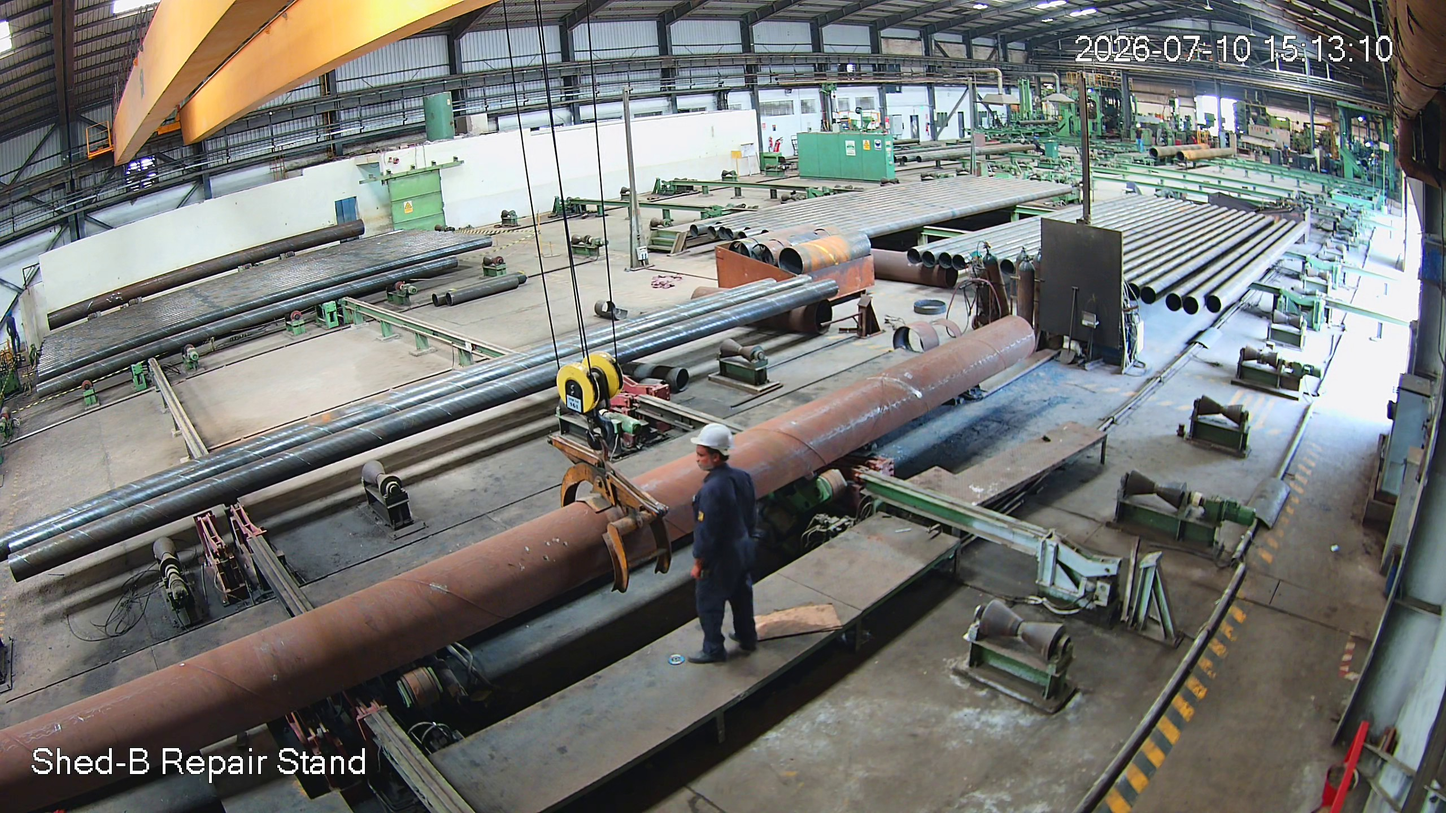Helmet: (691, 414, 762, 489)
Person: (676, 418, 778, 662)
